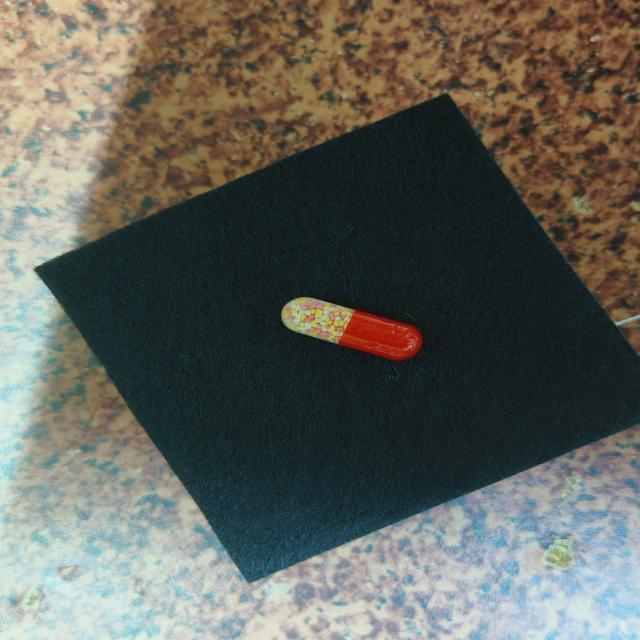Intact Capsule: (281, 297, 422, 360)
